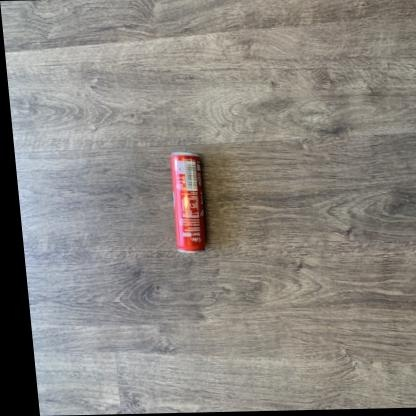trash: (170, 152, 205, 251)
